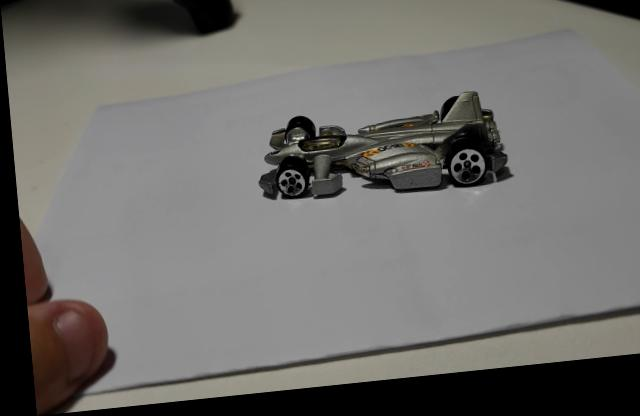05_DC121: (254, 102, 511, 208)
